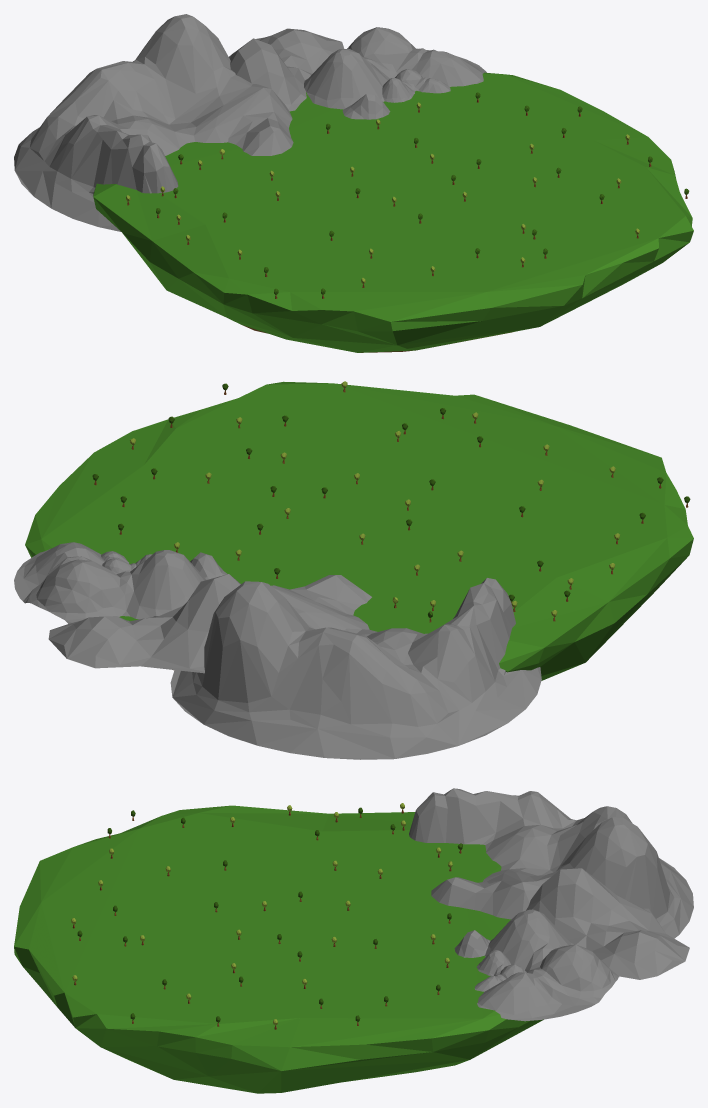
The model's file is world extendedfbx.fbx.
3 views of the same model, one above another, from view 1: azimuth 30°, elevation 25°; view 2: azimuth 150°, elevation 25°; view 3: azimuth 270°, elevation 25° (orthographic). The views are drawn at different scales.
Visible parts, largest first — view 1: Cube.001, Plane.003, Plane.002, mountaine.002, tree4.006, Plane.001, mountaine.001; view 2: Cube.001, Plane.003, Plane.002, mountaine.002, tree4.006, Plane.001; view 3: Cube.001, Plane.003, Plane.002, mountaine.002, tree4.006, Plane.001, mountaine.001.
Part boxes in pixels (x1,y1,x2,y2): Cube.001: [93, 72, 693, 352]; Plane.003: [14, 14, 293, 231]; Plane.002: [303, 27, 486, 109]; mountaine.002: [229, 28, 344, 111]; tree4.006: [126, 92, 689, 298]; Plane.001: [382, 69, 450, 102]; mountaine.001: [342, 94, 390, 119]; Cube.001: [25, 381, 693, 680]; Plane.003: [170, 575, 541, 759]; Plane.002: [14, 542, 206, 623]; mountaine.002: [48, 574, 240, 673]; tree4.006: [92, 381, 690, 622]; Plane.001: [101, 551, 152, 574]; Cube.001: [14, 805, 543, 1093]; Plane.003: [409, 788, 693, 938]; Plane.002: [477, 909, 618, 1021]; mountaine.002: [526, 868, 689, 979]; tree4.006: [71, 803, 462, 1029]; Plane.001: [474, 950, 526, 991]; mountaine.001: [454, 930, 490, 957].
Size of the model in its own units: 6855 by 1834 by 7951.
